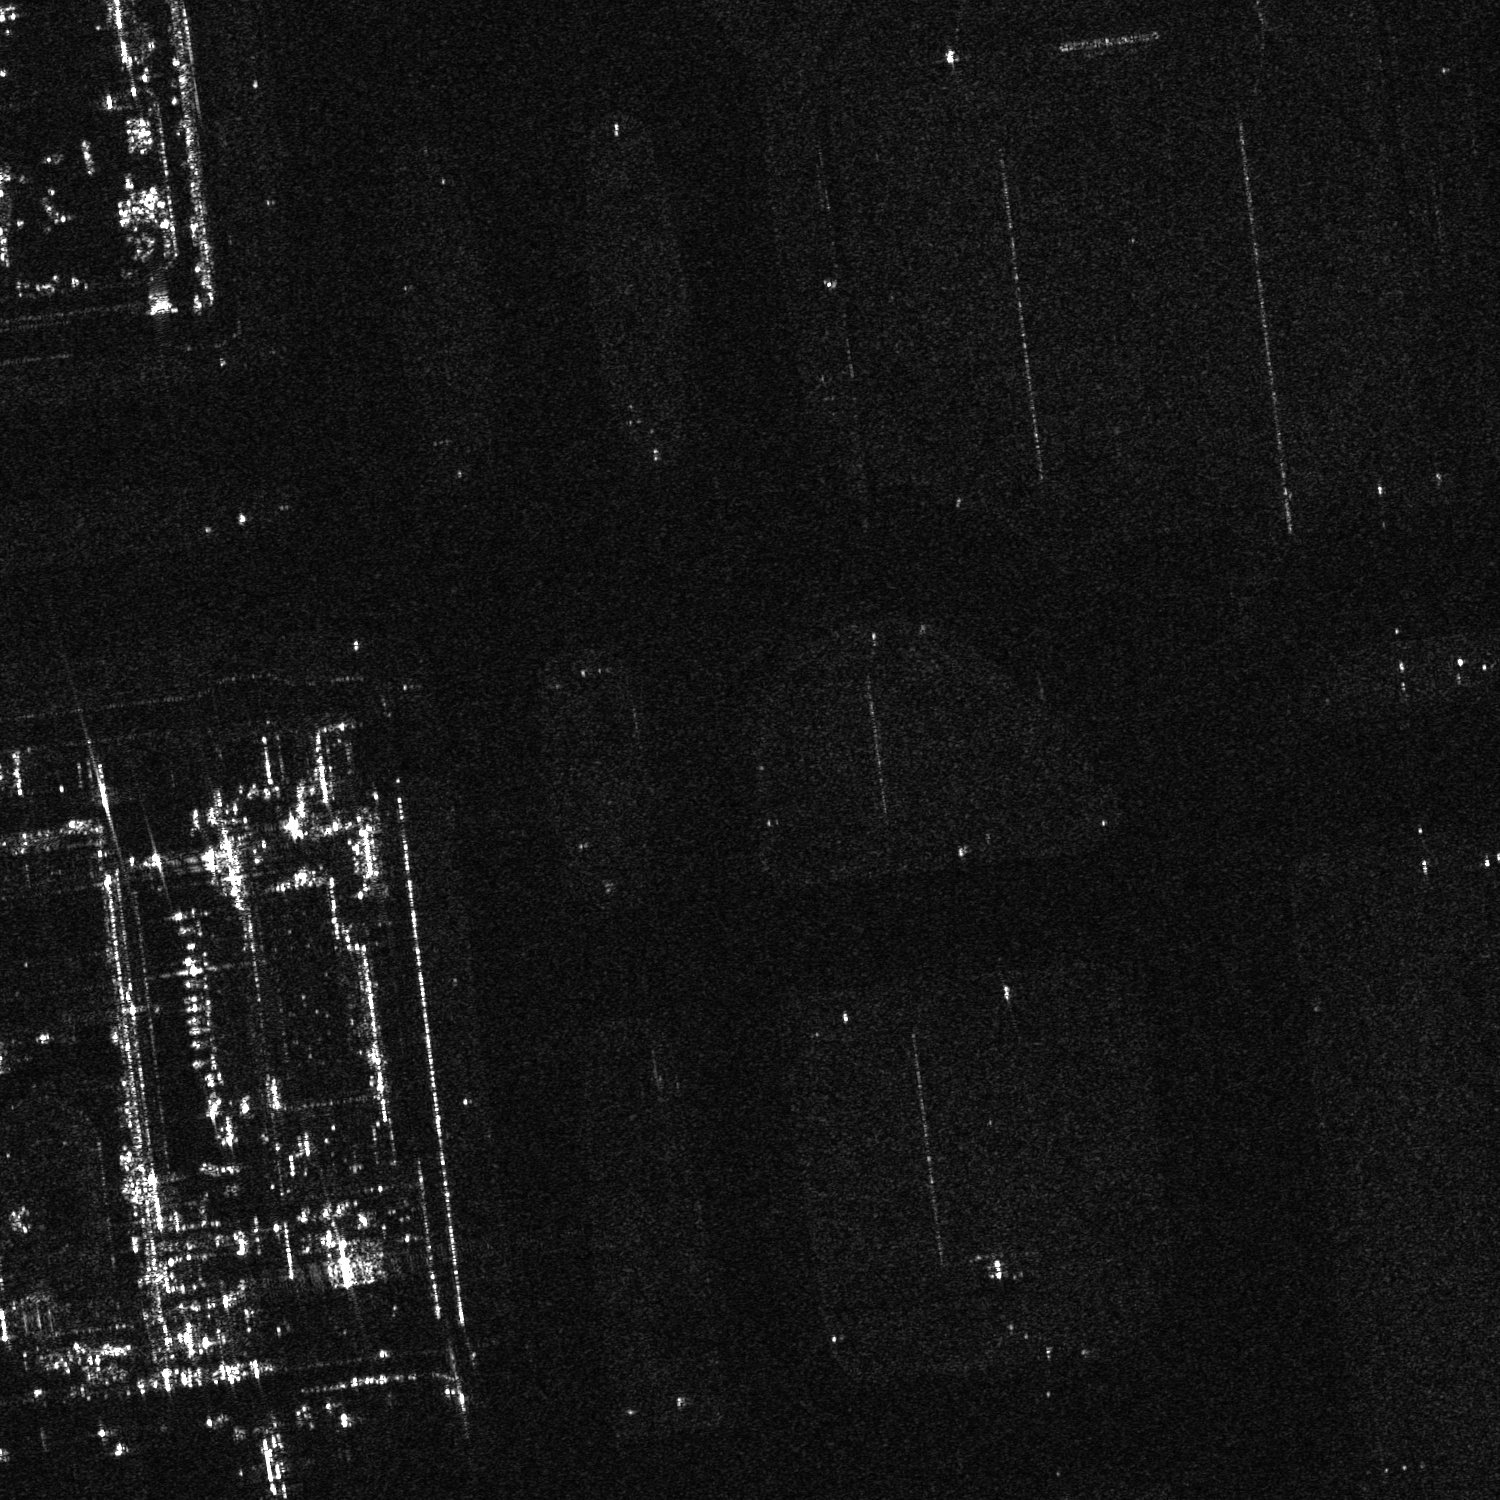Boeing737: (238, 1426, 315, 1499)
